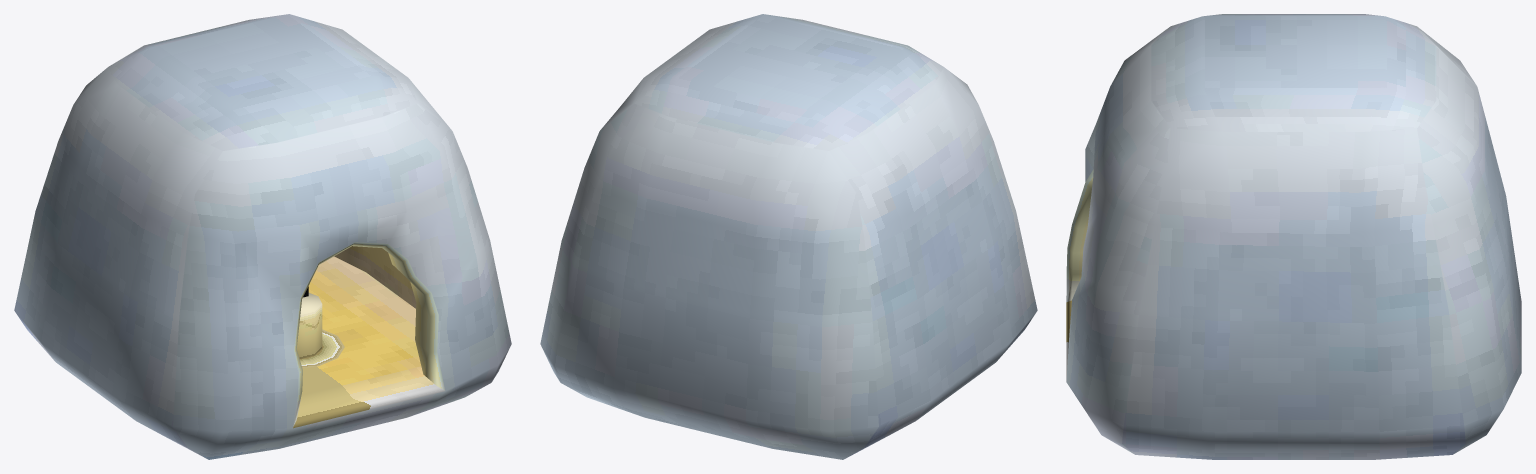
File: int_sno_kamakura.dae
The picture shows the model from 3 angles, left to right: view 1: azimuth 30°, elevation 25°; view 2: azimuth 150°, elevation 25°; view 3: azimuth 270°, elevation 25°; orthographic projection. The views are drawn at different scales.
Parts seen in each view (by area): view 1: int_sno_kamakura; view 2: int_sno_kamakura; view 3: int_sno_kamakura.
Boxes of the visible parts, x1,y1,x2,y2 form: int_sno_kamakura: (14, 14, 511, 459); int_sno_kamakura: (540, 14, 1037, 459); int_sno_kamakura: (1066, 14, 1521, 459).
Bounding box in the file's own units: 19.94 × 16.36 × 20.12.
Materials: 3 (3 with a texture image).
